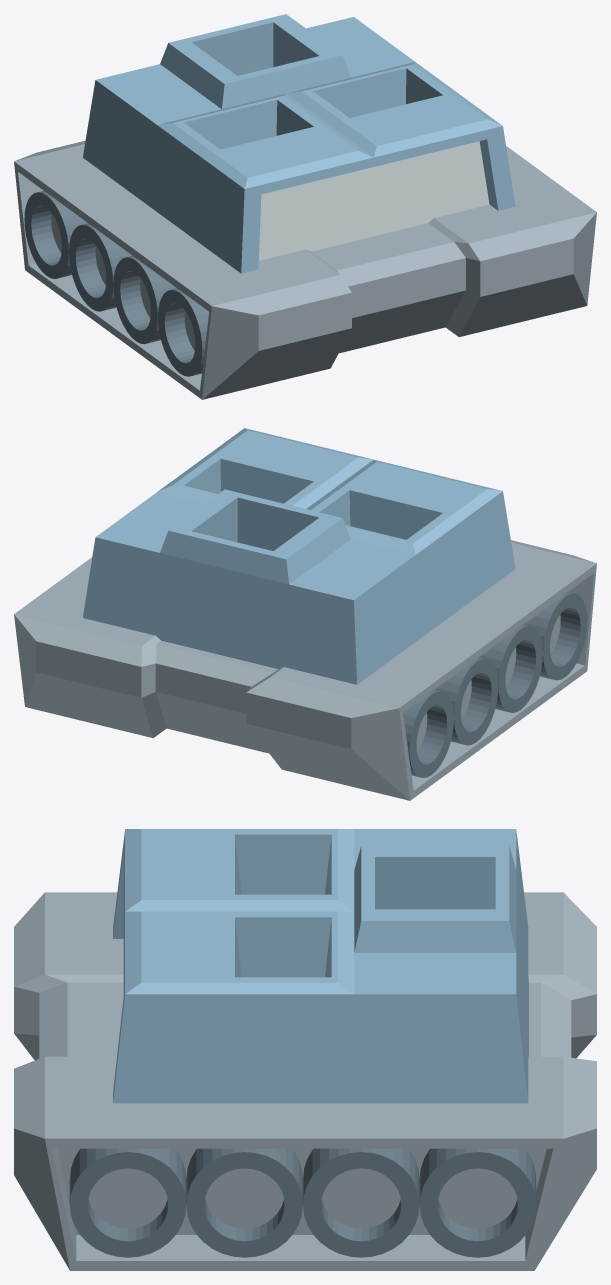
The model's file is Level2BossBaseAsset.fbx.
3 views of the same model, one above another, from view 1: azimuth 30°, elevation 25°; view 2: azimuth 150°, elevation 25°; view 3: azimuth 270°, elevation 25° (orthographic). The views are drawn at different scales.
Parts seen in each view (by area): view 1: Level2BossBase; view 2: Level2BossBase; view 3: Level2BossBase.
Boxes of the visible parts, bbox=[...] form: Level2BossBase: bbox=[14, 14, 596, 399]; Level2BossBase: bbox=[14, 428, 596, 800]; Level2BossBase: bbox=[14, 829, 596, 1270].
Size of the model in its own units: 400 by 200 by 400.
